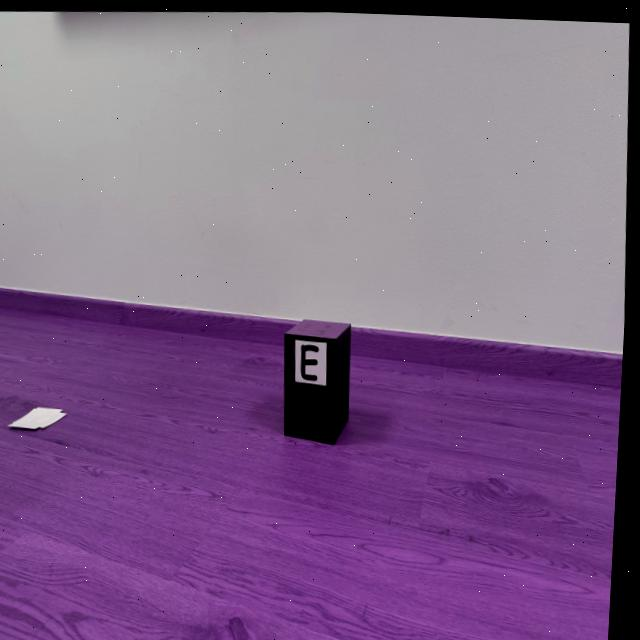E: (304, 341, 322, 378)
